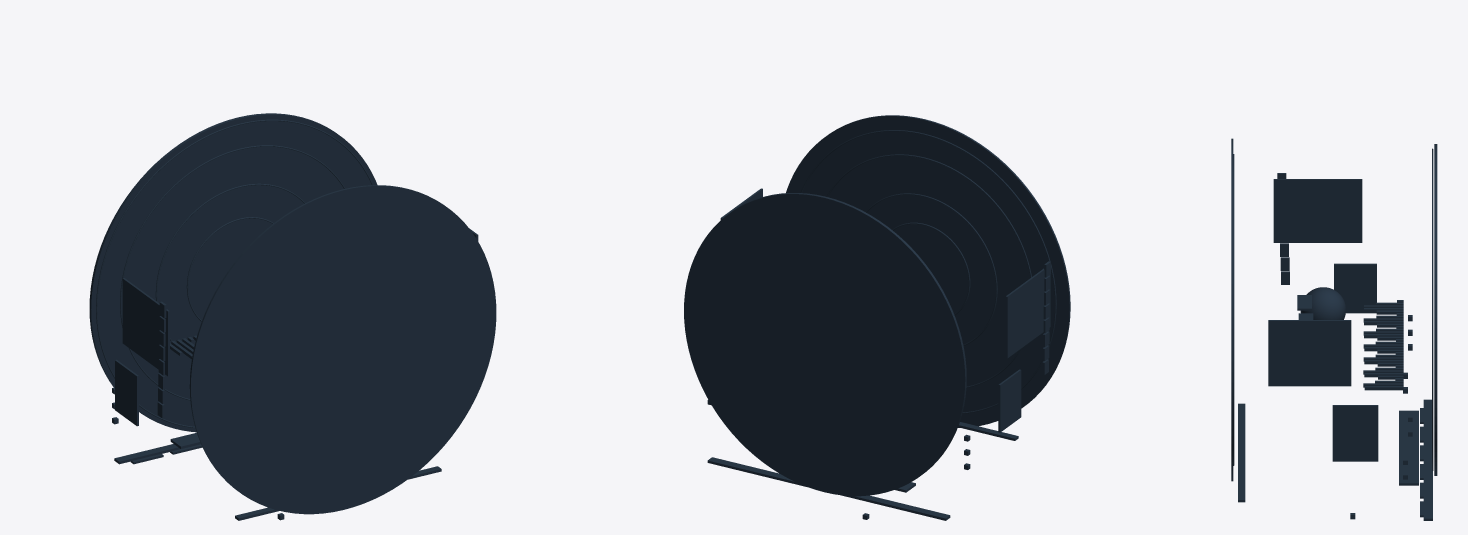
Rendered from 09_analytics_observatory.glb.
3 views of the same model, side by side, from view 1: azimuth 30°, elevation 25°; view 2: azimuth 150°, elevation 25°; view 3: azimuth 270°, elevation 25° (orthographic). The views are drawn at different scales.
Visible parts, largest first — view 1: 09_analytics_observatory__ceiling_dark_disc, 09_analytics_observatory__circular_command_floor_black_chrom, 09_analytics_observatory__UI_left_primary_panel, 09_analytics_observatory__UI_left_secondary_panel, 09_analytics_observatory__floor_emissive_cyan_ring_radius_6., 09_analytics_observatory__floor_emissive_cyan_ring_radius_5.; view 2: 09_analytics_observatory__circular_command_floor_black_chrom, 09_analytics_observatory__ceiling_dark_disc, 09_analytics_observatory__UI_left_primary_panel, 09_analytics_observatory__UI_bottom_active_context_rail, 09_analytics_observatory__UI_left_secondary_panel, 09_analytics_observatory__ceiling_light_ring_radius_5.8, 09_analytics_observatory__ceiling_light_ring_radius_4.8; view 3: 09_analytics_observatory__UI_left_primary_panel, 09_analytics_observatory__UI_right_primary_panel, 09_analytics_observatory__UI_right_secondary_panel, 09_analytics_observatory__UI_left_secondary_panel, 09_analytics_observatory__UI_bottom_command_dock, 09_analytics_observatory__circular_command_floor_black_chrom, 09_analytics_observatory__UI_bottom_active_context_rail, 09_analytics_observatory__HERO_ANALYTICS_GLOBE, 09_analytics_observatory__ceiling_dark_disc, 09_analytics_observatory__UI_top_nav_holographic_rail, 09_analytics_observatory__floor_emissive_cyan_ring_radius_6., 09_analytics_observatory__ceiling_light_ring_radius_5.8.
Part boxes in pixels (x1,y1,x2,y2): 09_analytics_observatory__ceiling_dark_disc: [189, 185, 496, 514]; 09_analytics_observatory__circular_command_floor_black_chrom: [89, 113, 377, 432]; 09_analytics_observatory__UI_left_primary_panel: [122, 278, 169, 376]; 09_analytics_observatory__UI_left_secondary_panel: [115, 359, 138, 426]; 09_analytics_observatory__floor_emissive_cyan_ring_radius_6.: [96, 119, 372, 427]; 09_analytics_observatory__floor_emissive_cyan_ring_radius_5.: [120, 145, 345, 400]; 09_analytics_observatory__circular_command_floor_black_chrom: [684, 193, 966, 496]; 09_analytics_observatory__ceiling_dark_disc: [786, 115, 1070, 427]; 09_analytics_observatory__UI_left_primary_panel: [1005, 268, 1050, 358]; 09_analytics_observatory__UI_bottom_active_context_rail: [707, 457, 950, 520]; 09_analytics_observatory__UI_left_secondary_panel: [998, 369, 1021, 432]; 09_analytics_observatory__ceiling_light_ring_radius_5.8: [800, 130, 1056, 413]; 09_analytics_observatory__ceiling_light_ring_radius_4.8: [826, 154, 1031, 388]; 09_analytics_observatory__UI_left_primary_panel: [1273, 179, 1362, 242]; 09_analytics_observatory__UI_right_primary_panel: [1268, 320, 1351, 386]; 09_analytics_observatory__UI_right_secondary_panel: [1332, 405, 1378, 461]; 09_analytics_observatory__UI_left_secondary_panel: [1334, 263, 1376, 313]; 09_analytics_observatory__UI_bottom_command_dock: [1399, 410, 1418, 485]; 09_analytics_observatory__circular_command_floor_black_chrom: [1434, 144, 1437, 475]; 09_analytics_observatory__UI_bottom_active_context_rail: [1423, 399, 1432, 520]; 09_analytics_observatory__HERO_ANALYTICS_GLOBE: [1300, 287, 1345, 319]; 09_analytics_observatory__ceiling_dark_disc: [1231, 138, 1233, 481]; 09_analytics_observatory__UI_top_nav_holographic_rail: [1238, 403, 1245, 502]; 09_analytics_observatory__floor_emissive_cyan_ring_radius_6.: [1432, 148, 1433, 471]; 09_analytics_observatory__ceiling_light_ring_radius_5.8: [1233, 154, 1234, 465].
Size of the model in its own units: 18 by 16.59 by 10.13.
